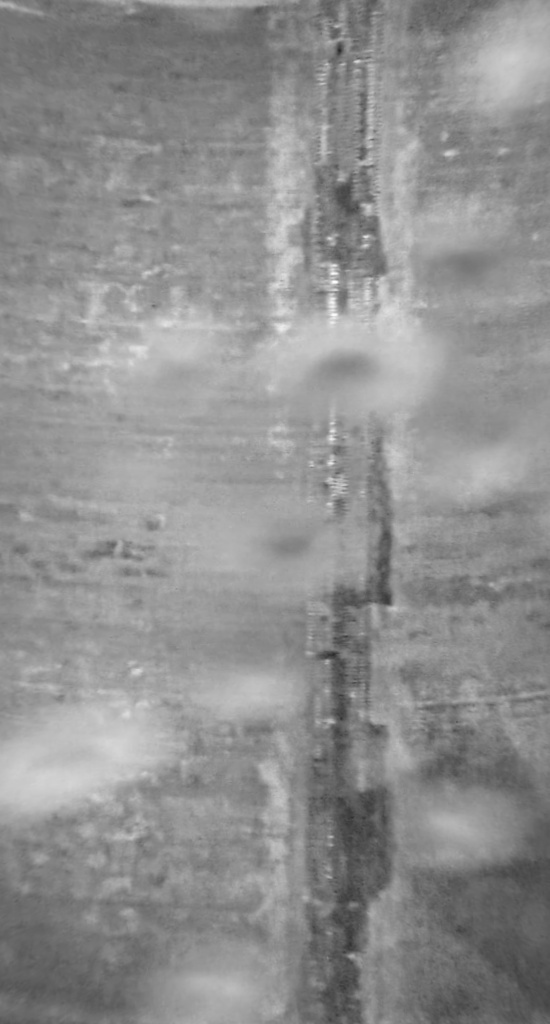splice: (301, 2, 398, 1023)
